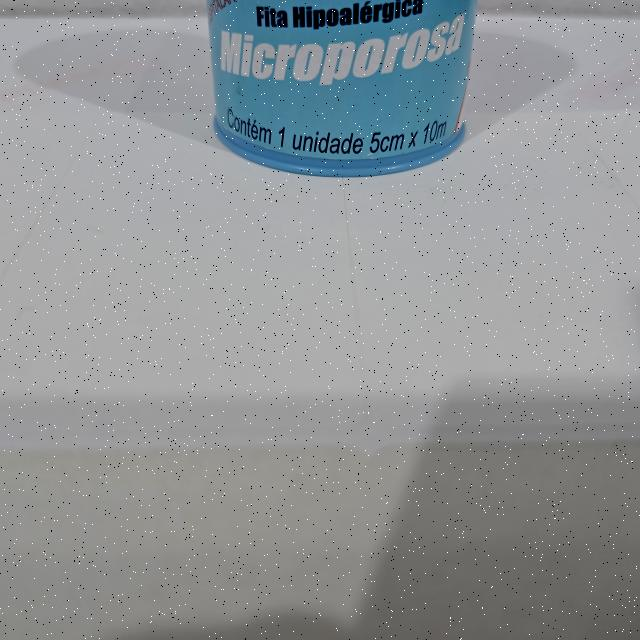procitex: (199, 0, 486, 183)
